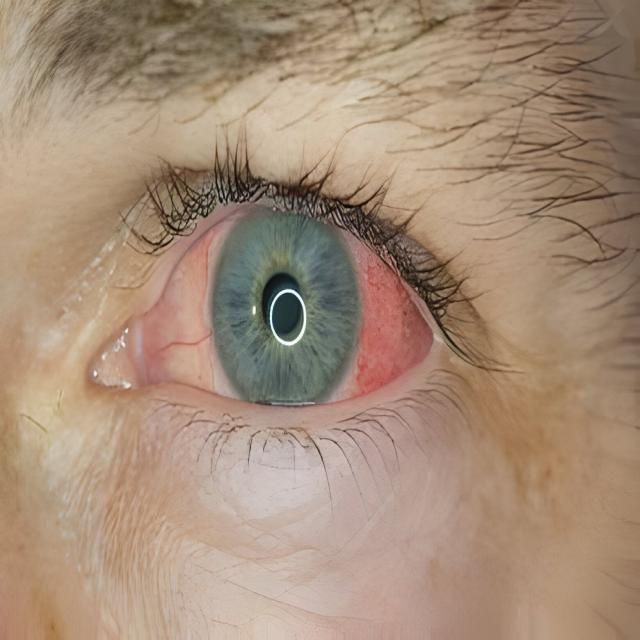Conjunctivitis: (90, 207, 453, 408)
